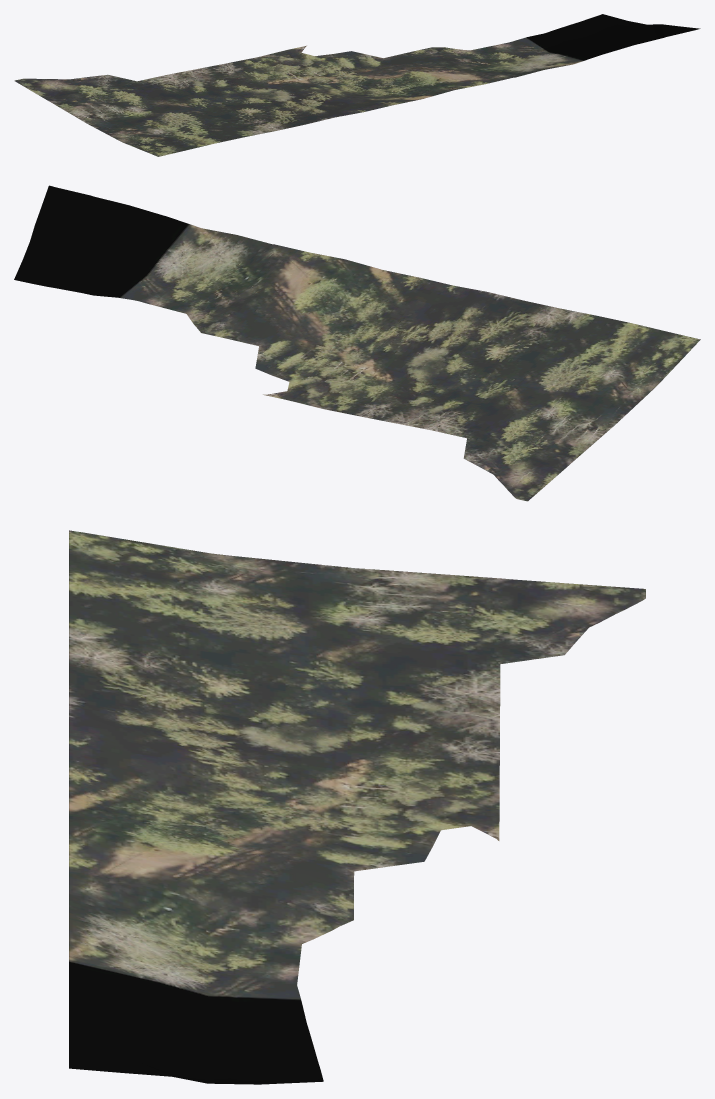
Rendered from CM_Terrain_24490868_6823070.fbx.
The picture shows the model from 3 angles, top to bottom: view 1: azimuth 30°, elevation 25°; view 2: azimuth 150°, elevation 25°; view 3: azimuth 270°, elevation 25°; orthographic projection. The views are drawn at different scales.
Parts seen in each view (by area): view 1: CM_Terrain_24490868_6823070_LOD0; view 2: CM_Terrain_24490868_6823070_LOD0; view 3: CM_Terrain_24490868_6823070_LOD0.
Boxes of the visible parts, <box> form: CM_Terrain_24490868_6823070_LOD0: <box>14,14,700,156</box>; CM_Terrain_24490868_6823070_LOD0: <box>14,185,700,501</box>; CM_Terrain_24490868_6823070_LOD0: <box>69,530,645,1084</box>.
Size of what is drawn, in the model's own units: 130 by 6.86 by 59.66.
